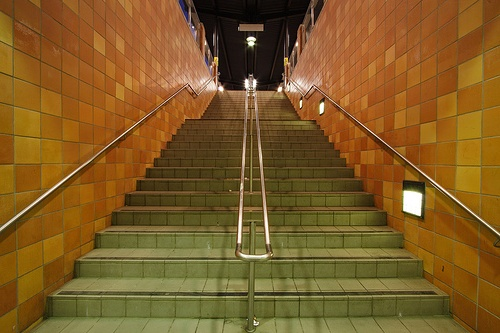stairs_up: (255, 87, 443, 333), (85, 85, 246, 333)
